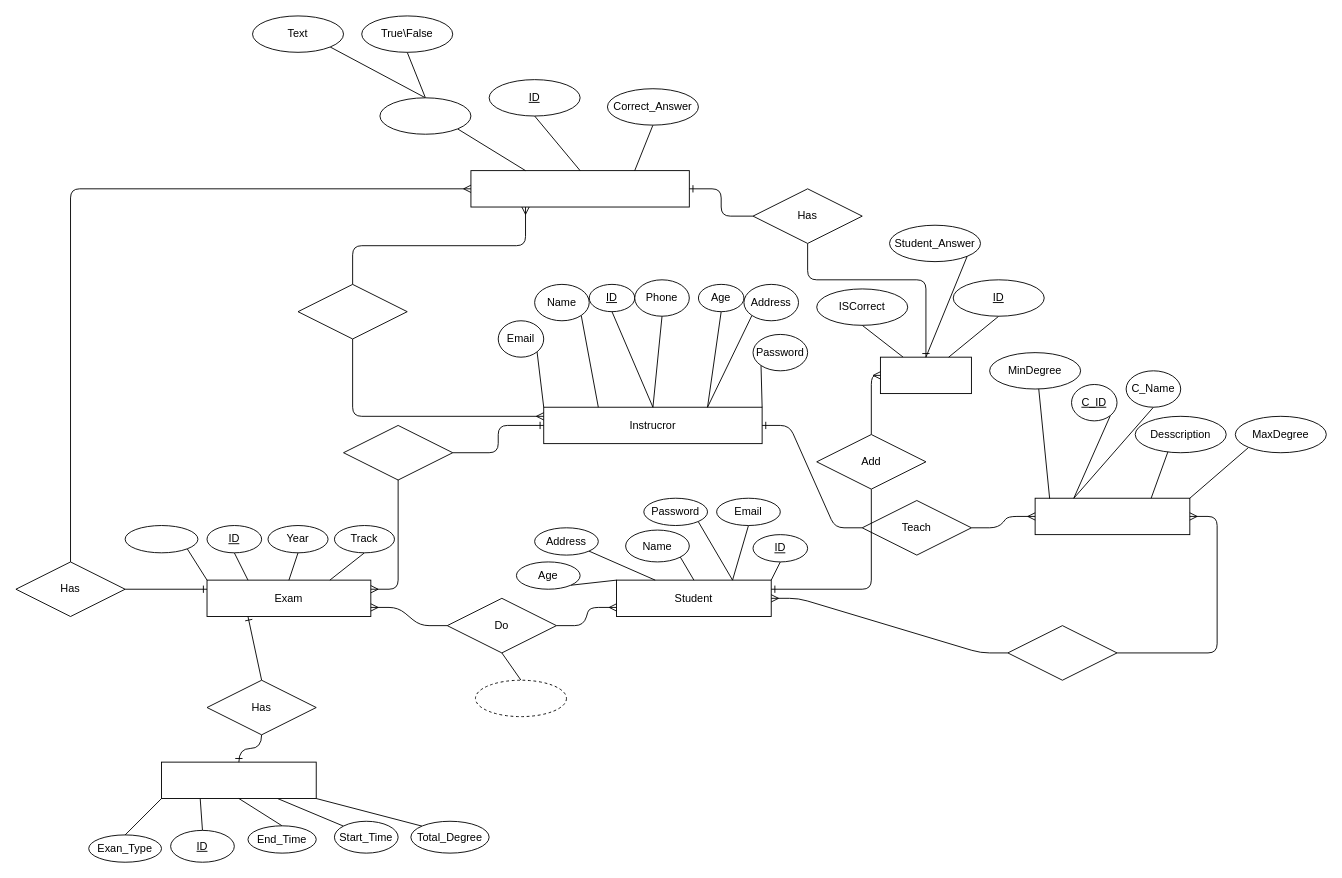
Some shapes in this 1342 by 878 pixel diagram are drawn without their labels. The shapes that lost their labels are listed below. From the top down, each one's box as (x1, y1, x2, y2) in pixels, then its label:
(379, 97, 471, 134): Q_Type
(470, 170, 689, 207): Question
(297, 283, 407, 339): Choose
(880, 356, 971, 394): Answer
(343, 425, 453, 480): Make
(1034, 497, 1190, 535): Course
(124, 525, 198, 553): Branch
(1007, 625, 1117, 680): Enroll
(475, 679, 566, 717): Exam_Result
(161, 761, 316, 799): Exam_Details
